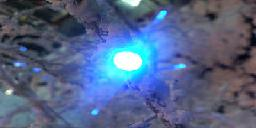LED: (110, 45, 146, 77)
